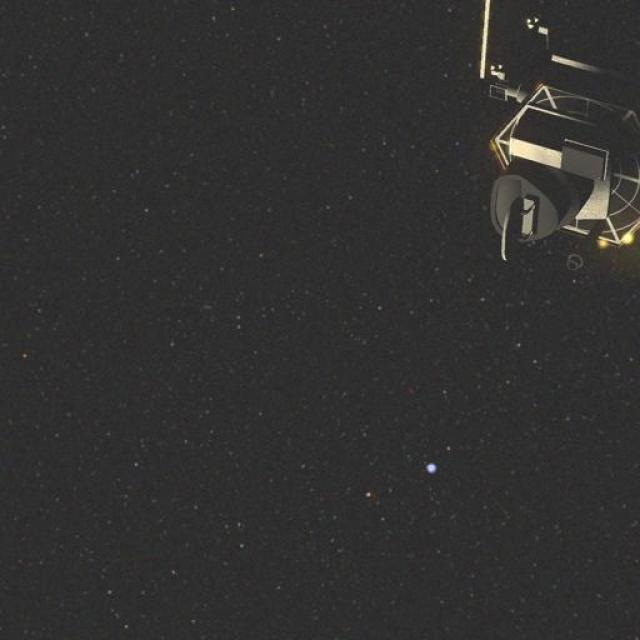earth_observation_sat_1: (463, 0, 639, 289)
